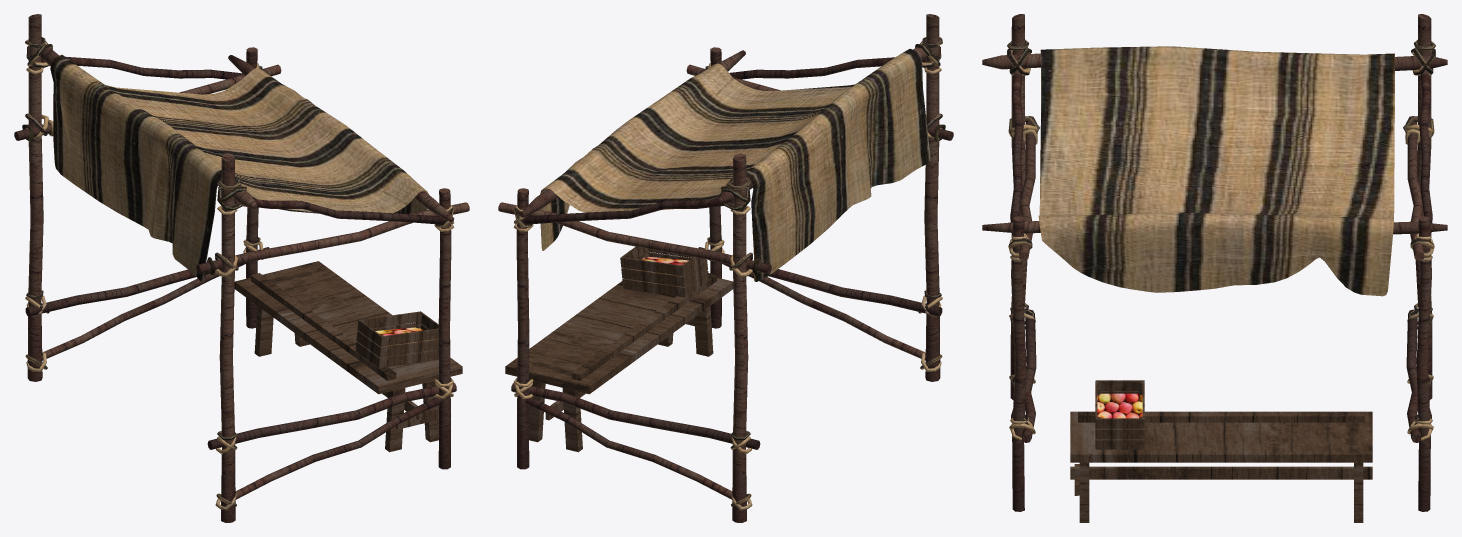
File: market01.fbx
The picture shows the model from 3 angles, left to right: view 1: azimuth 30°, elevation 25°; view 2: azimuth 150°, elevation 25°; view 3: azimuth 270°, elevation 25°; orthographic projection. The views are drawn at different scales.
Visible parts, largest first — view 1: Plane.005, Cylinder.006, Cube.001, Cylinder.005, Cylinder.010, Cylinder.012, Cylinder.008, Cylinder.009, Cube.007, Cube.002, Cube.005, Cube.008 (+1 smaller); view 2: Plane.005, Cube.001, Cylinder.006, Cylinder.005, Cylinder.010, Cylinder.012, Cylinder.009, Cylinder.008, Cube.002, Cube.007, Cube.005, Cube.008 (+1 smaller); view 3: Plane.005, Cube.001, Cylinder.005, Cube.003, Cylinder.006, Cube.005, Cylinder.009, Cylinder.008, Cylinder.010, Cube.008, Cube.002, Cylinder.007 (+2 smaller).
Part boxes in pixels (<box>): Plane.005: <box>50,54,428,281</box>; Cylinder.006: <box>27,14,235,522</box>; Cube.001: <box>234,261,462,394</box>; Cylinder.005: <box>246,47,451,469</box>; Cylinder.010: <box>25,247,456,449</box>; Cylinder.012: <box>41,262,442,499</box>; Cylinder.008: <box>14,64,469,273</box>; Cylinder.009: <box>41,56,444,224</box>; Cube.007: <box>360,311,438,367</box>; Cube.002: <box>254,306,438,452</box>; Cube.005: <box>251,273,396,380</box>; Cube.008: <box>355,311,438,368</box>; Plane.005: <box>540,48,930,281</box>; Cube.001: <box>505,277,733,394</box>; Cylinder.006: <box>732,14,940,522</box>; Cylinder.005: <box>516,47,721,469</box>; Cylinder.010: <box>511,247,942,449</box>; Cylinder.012: <box>525,262,926,499</box>; Cylinder.009: <box>523,57,926,224</box>; Cylinder.008: <box>498,64,953,273</box>; Cube.002: <box>529,306,713,452</box>; Cube.007: <box>622,248,703,297</box>; Cube.005: <box>571,273,716,380</box>; Cube.008: <box>620,246,708,297</box>; Plane.005: <box>1038,46,1394,296</box>; Cube.001: <box>1070,411,1372,462</box>; Cylinder.005: <box>1011,216,1431,511</box>; Cube.003: <box>1070,466,1372,479</box>; Cylinder.006: <box>1010,14,1432,400</box>; Cube.005: <box>1078,411,1364,422</box>; Cylinder.009: <box>1010,70,1432,235</box>; Cylinder.008: <box>1019,116,1424,260</box>; Cylinder.010: <box>1022,309,1420,442</box>; Cube.008: <box>1095,380,1144,449</box>; Cube.002: <box>1079,462,1363,522</box>; Cylinder.007: <box>982,53,1447,70</box>.
Size of the model in its own units: 298 by 366 by 403.
